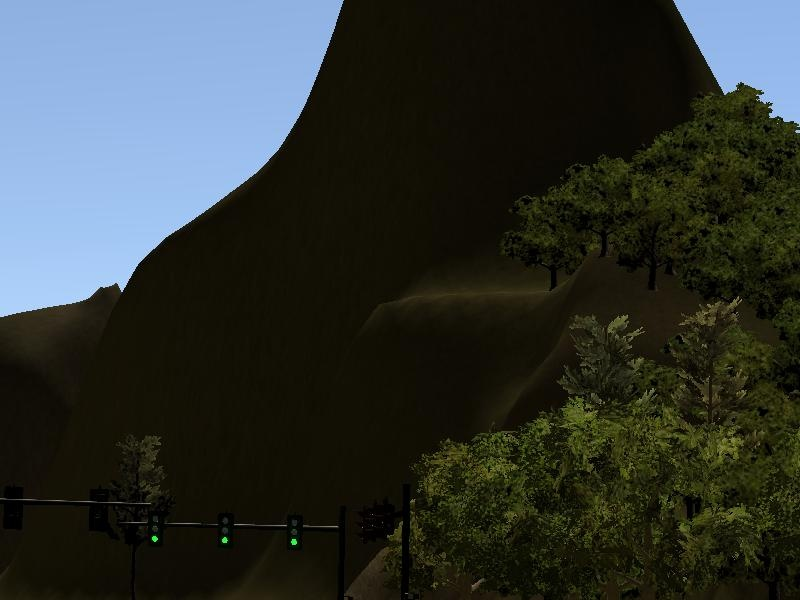GREEN: (283, 506, 303, 551), (216, 505, 233, 549), (146, 508, 164, 549)
